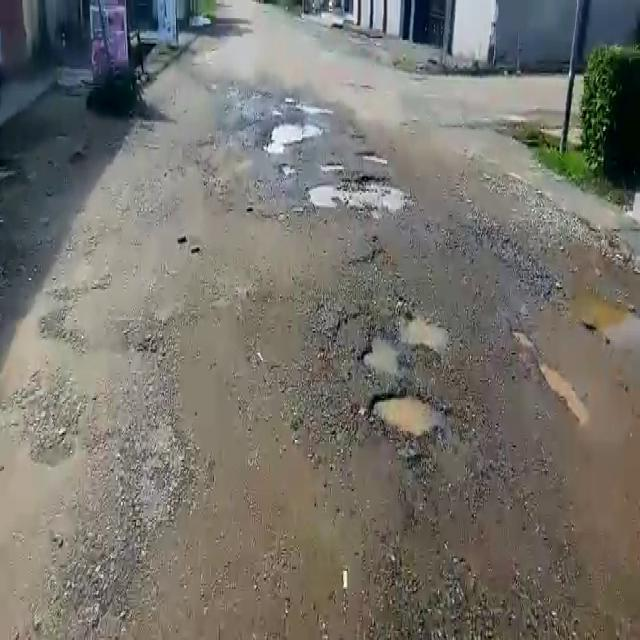pothole: (348, 304, 449, 383), (310, 170, 415, 212), (369, 388, 439, 439), (259, 119, 316, 152), (290, 100, 330, 117), (358, 150, 390, 163)
